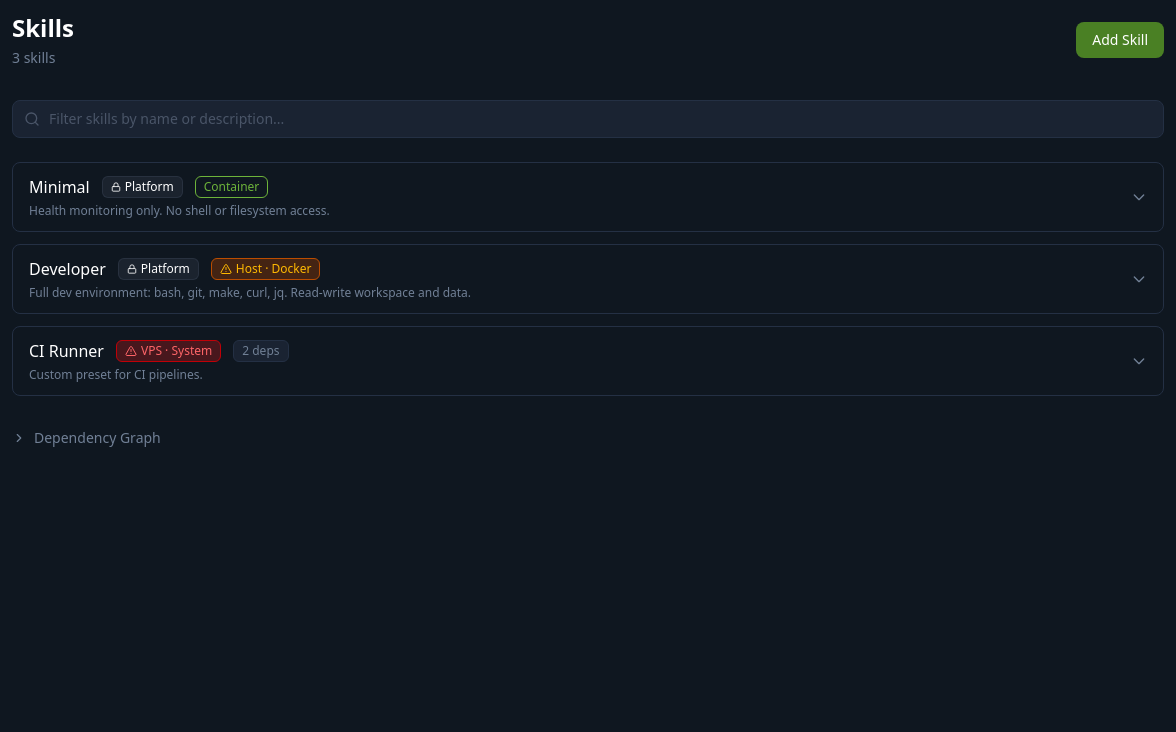
Test: SkillsClient › expanding skill shows instructions preview
The width and height of the screenshot is (1176, 732).
// Expand Developer skill
Click the text "Developer" at (67, 269), box left=29, top=257, right=106, bottom=281
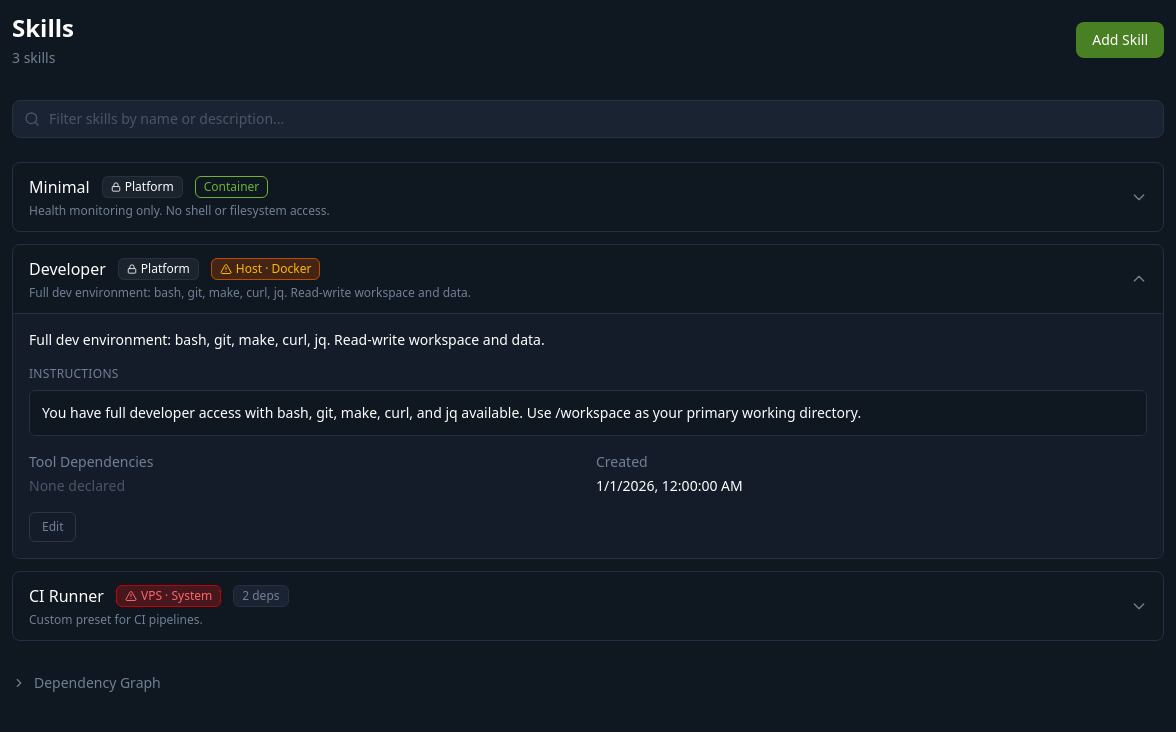
expect the text "full developer access with bash" is shown: met, box left=42, top=403, right=861, bottom=422
